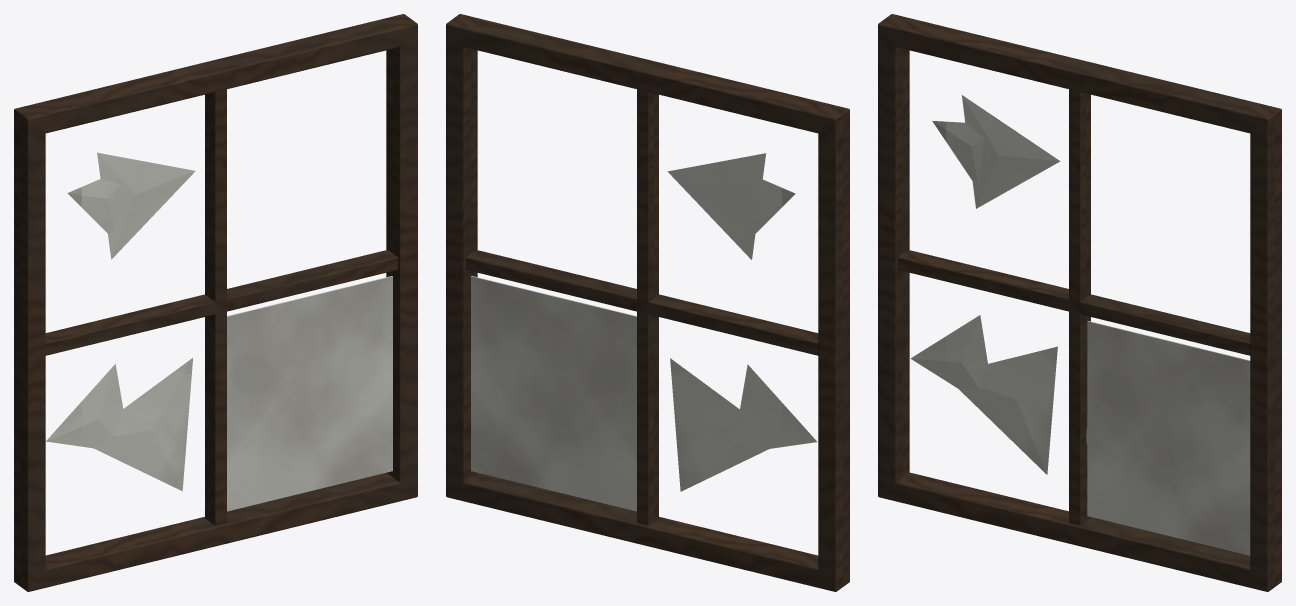
Rendered from BR04_broken_window_glass_v1.glb.
3 views of the same model, side by side, from view 1: azimuth 30°, elevation 25°; view 2: azimuth 150°, elevation 25°; view 3: azimuth 330°, elevation 25° (orthographic).
Visible parts, largest first — view 1: BR04_broken_window_glass_v1; view 2: BR04_broken_window_glass_v1; view 3: BR04_broken_window_glass_v1.
Part boxes in pixels (box(x1,y1,x2,y2)): BR04_broken_window_glass_v1: box(14, 14, 417, 591); BR04_broken_window_glass_v1: box(446, 14, 849, 591); BR04_broken_window_glass_v1: box(878, 14, 1281, 591).
Size of the model in its own units: 1.29 by 1.5 by 0.0822.
2 materials, 2 textured.
